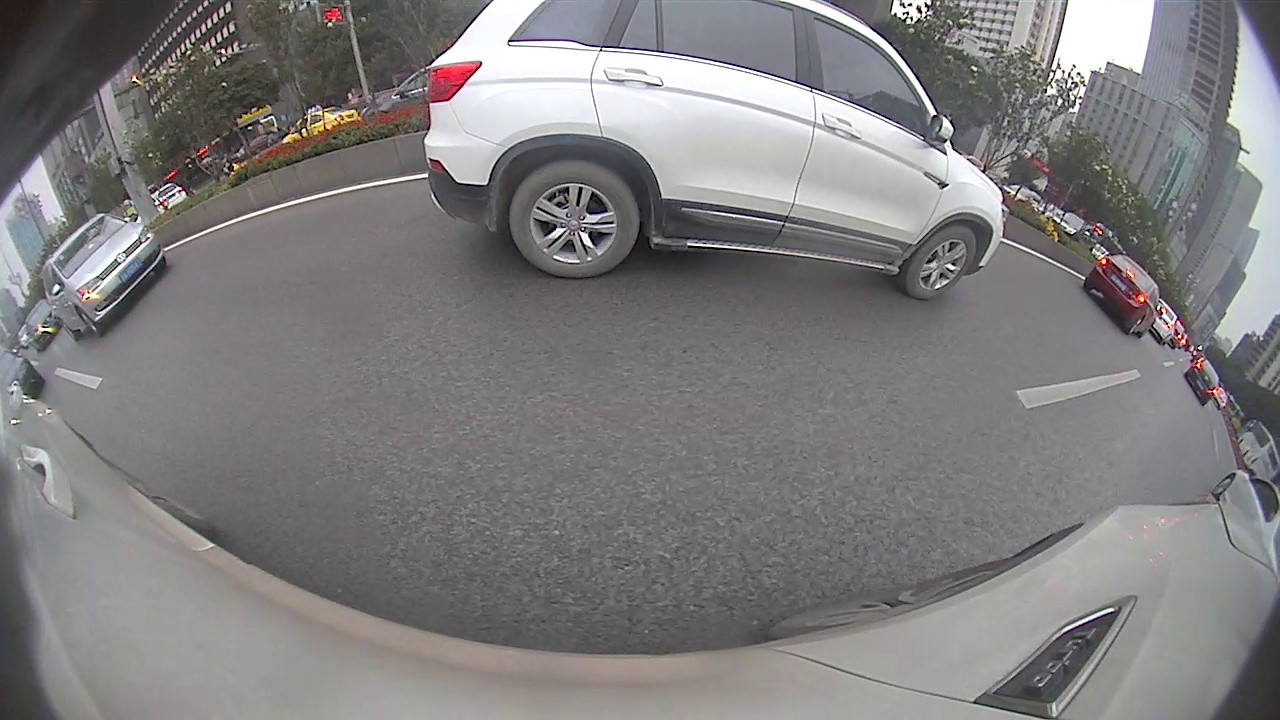bus: (657, 135, 706, 184)
car: (1142, 282, 1278, 413), (878, 172, 1038, 262), (768, 161, 853, 205), (541, 161, 589, 195), (727, 161, 767, 187), (713, 163, 736, 183)
front: (1165, 317, 1207, 363), (880, 197, 897, 221)
rear: (952, 218, 972, 246), (796, 183, 805, 200)
